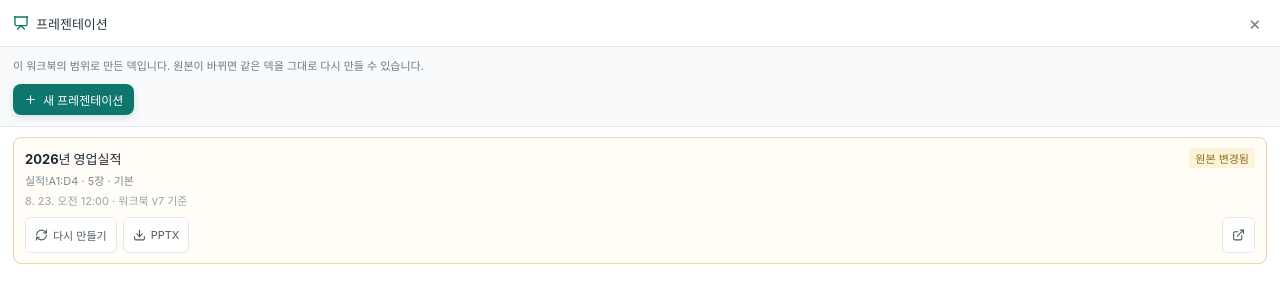
it: PresentationPanel › shows why a refresh failed
Click the button "다시 만들기" at (71, 235), box [25,217,117,253]
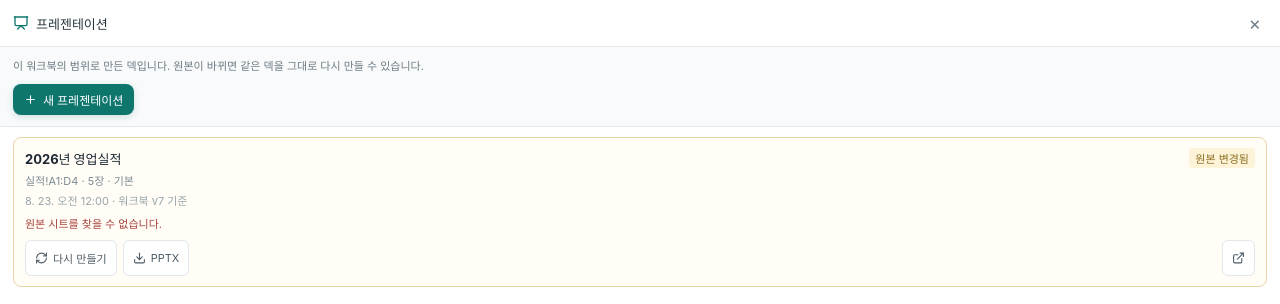
Expected: the text "원본 변경됨" is shown, [1189,148,1255,168]
Expected: the message reads "원본 시트를 찾을 수 없습니다.", [25,217,162,231]
